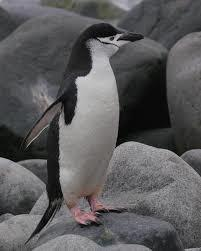chinstrap: (12, 17, 151, 239)
